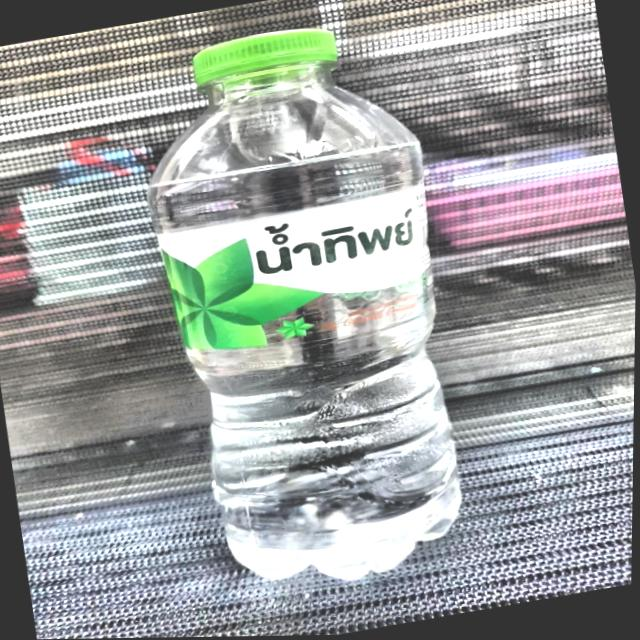Bottles: (89, 2, 527, 609)
